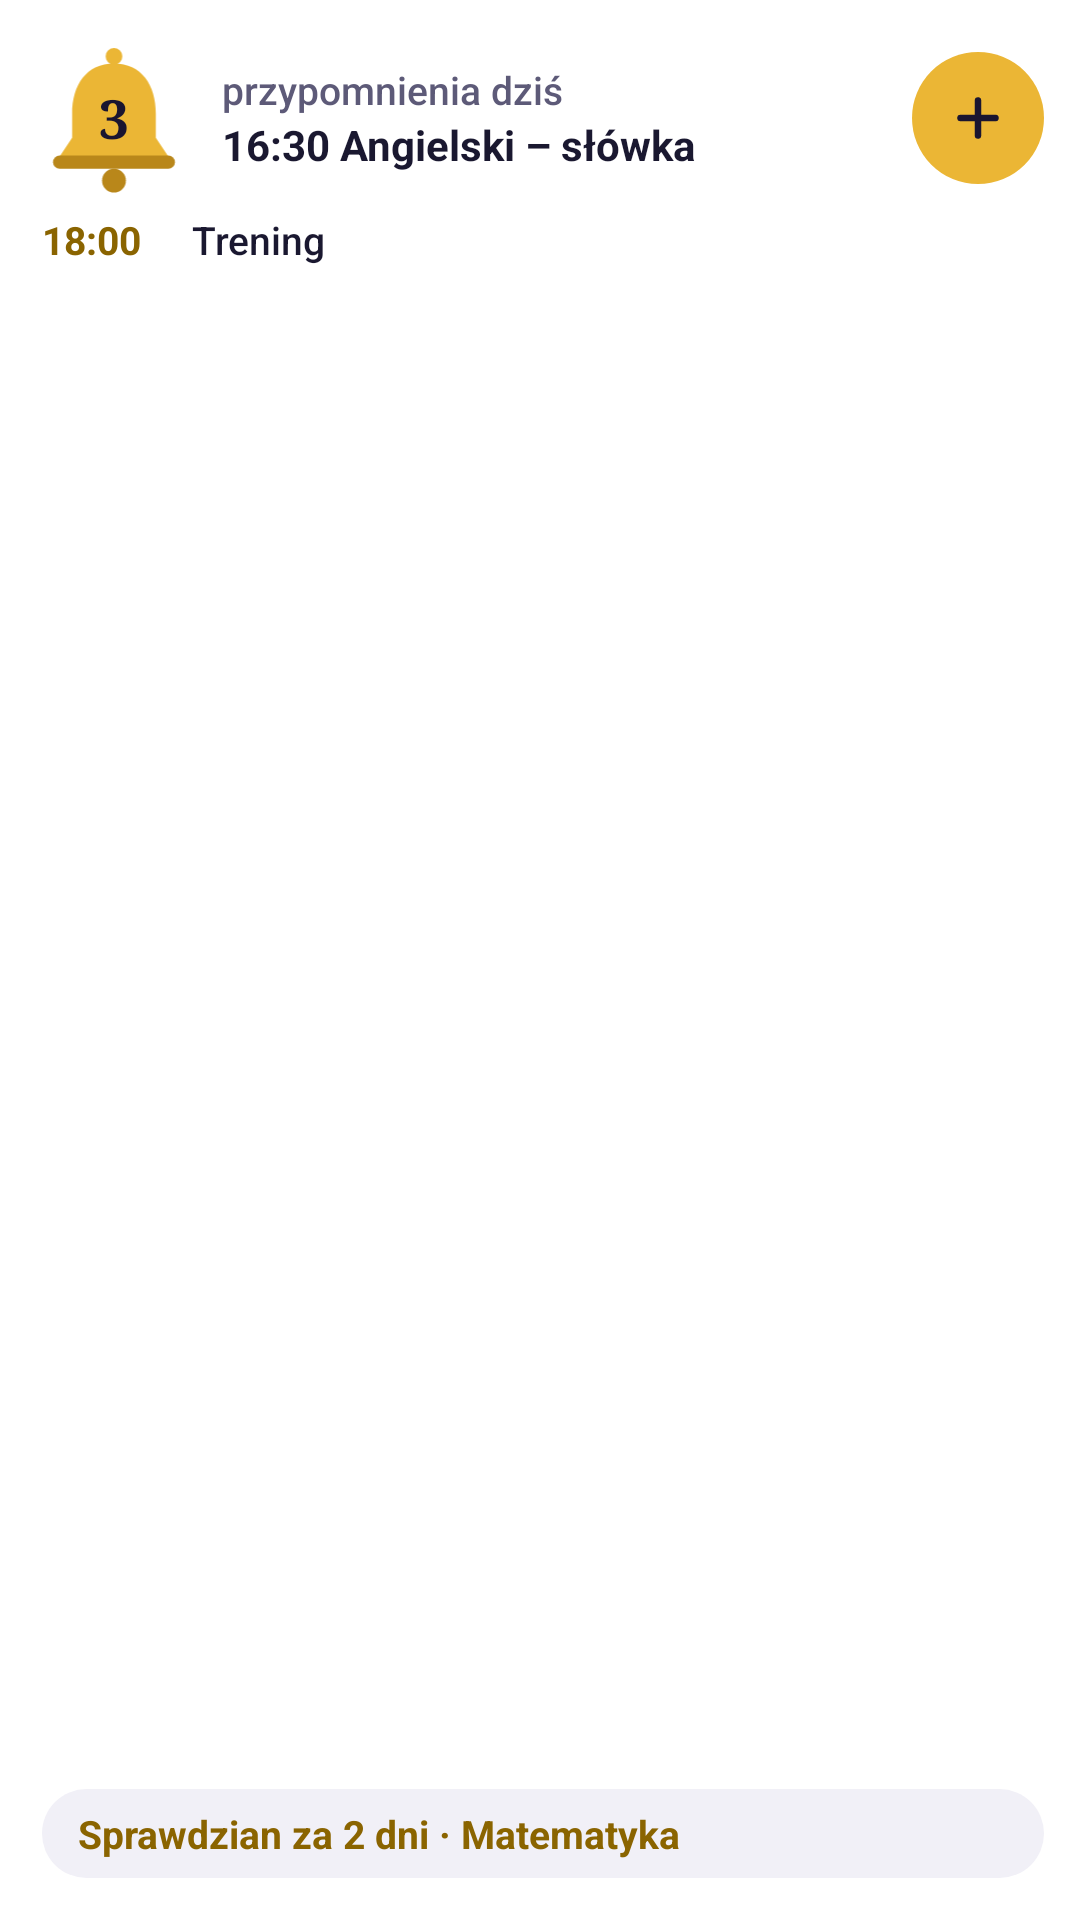

Icons on this 1080 × 1920 Android screen, each with its box as (x1, y1, x2, y2):
widget plus: (957, 97, 999, 139)
